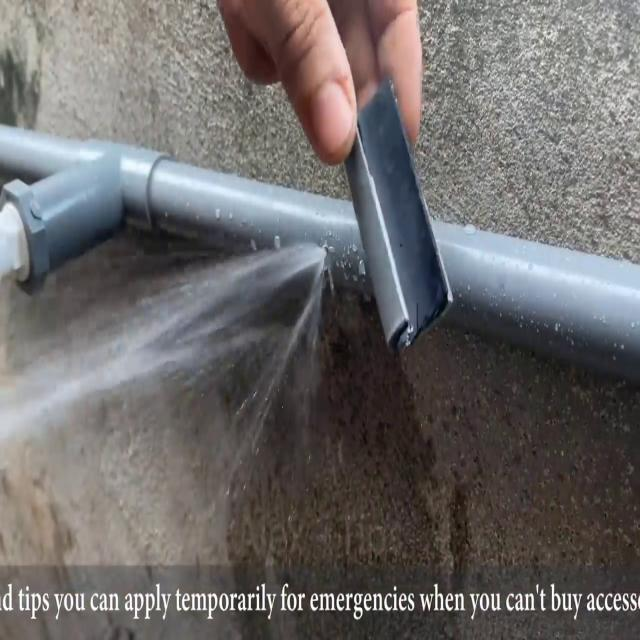leak: (0, 238, 333, 450)
